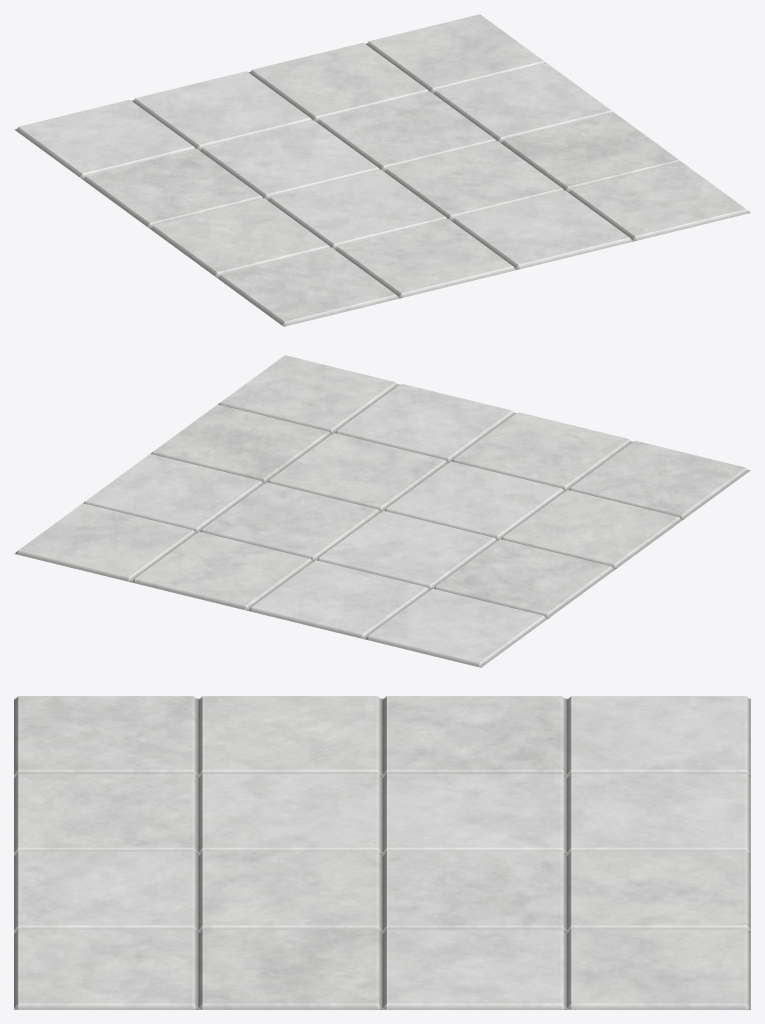
File: floor.obj
The picture shows the model from 3 angles, top to bottom: view 1: azimuth 30°, elevation 25°; view 2: azimuth 150°, elevation 25°; view 3: azimuth 270°, elevation 25°; orthographic projection. The views are drawn at different scales.
Parts seen in each view (by area): view 1: floor; view 2: floor; view 3: floor.
Part boxes in pixels (x1,y1,x2,y2): floor: [14, 14, 750, 326]; floor: [14, 355, 750, 667]; floor: [14, 696, 750, 1009].
Size of the model in its own units: 3 by 0.02 by 3.
